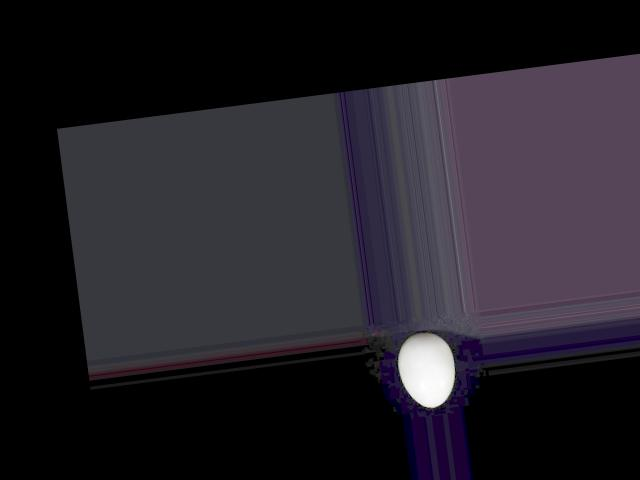egg: (395, 328, 459, 410)
